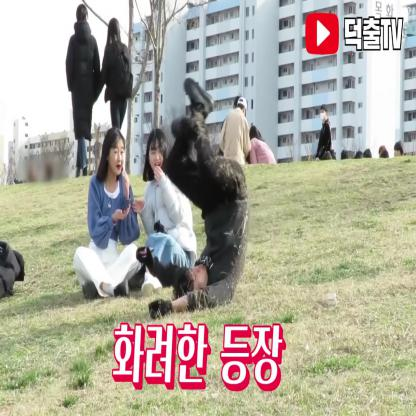Fall_Down: (135, 76, 250, 320)
